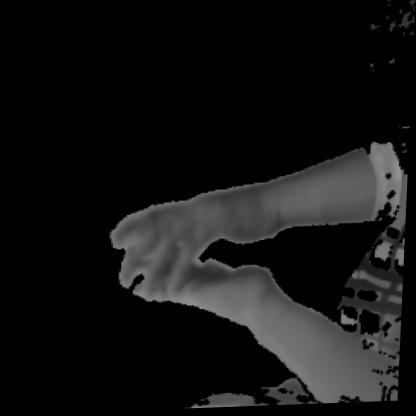clap: (90, 167, 354, 350)
